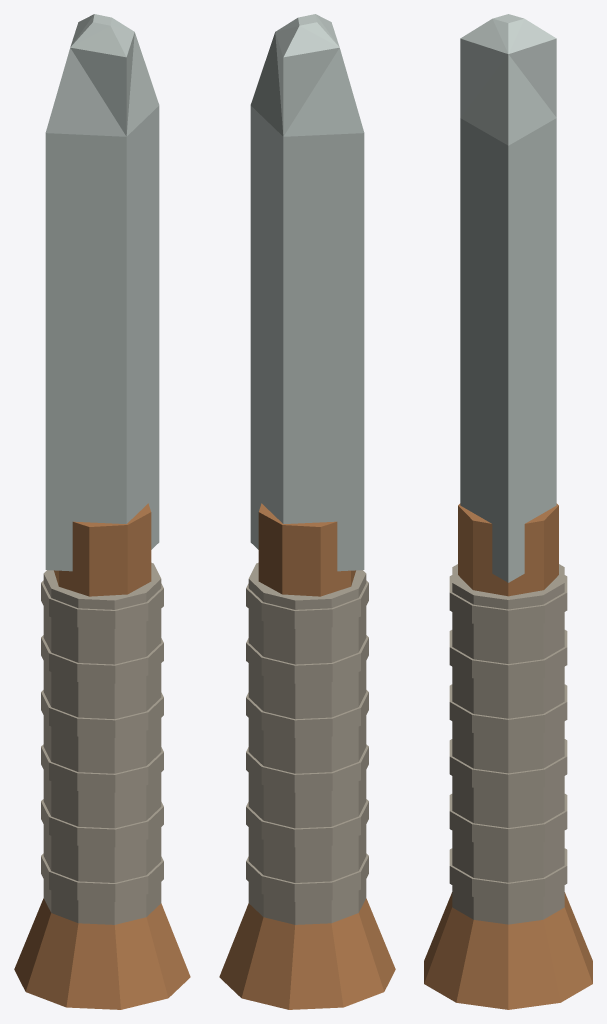
File: AEW_Dagger_CopperMercy.fbx
3 views of the same model, side by side, from view 1: azimuth 30°, elevation 25°; view 2: azimuth 150°, elevation 25°; view 3: azimuth 270°, elevation 25° (orthographic).
Visible parts, largest first — view 1: AEW_Dagger_CopperMercy; view 2: AEW_Dagger_CopperMercy; view 3: AEW_Dagger_CopperMercy.
Part boxes in pixels (x1,y1,x2,y2): AEW_Dagger_CopperMercy: (14,14,190,1009); AEW_Dagger_CopperMercy: (219,14,395,1009); AEW_Dagger_CopperMercy: (424,14,592,1009).
Size of the model in its own units: 0.081 by 0.48 by 0.077.
